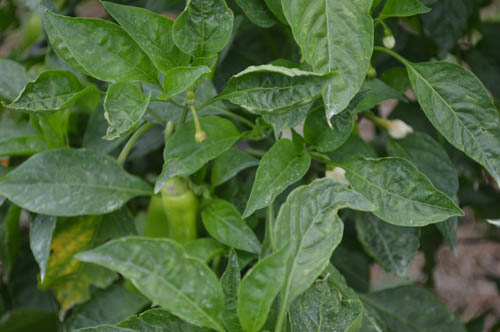ChiliPepper: (155, 189, 200, 254)
